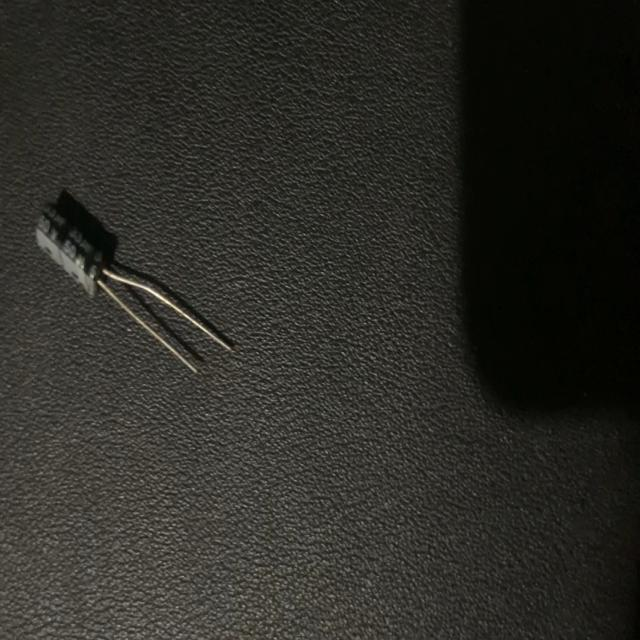capacitor: (34, 197, 234, 372)
